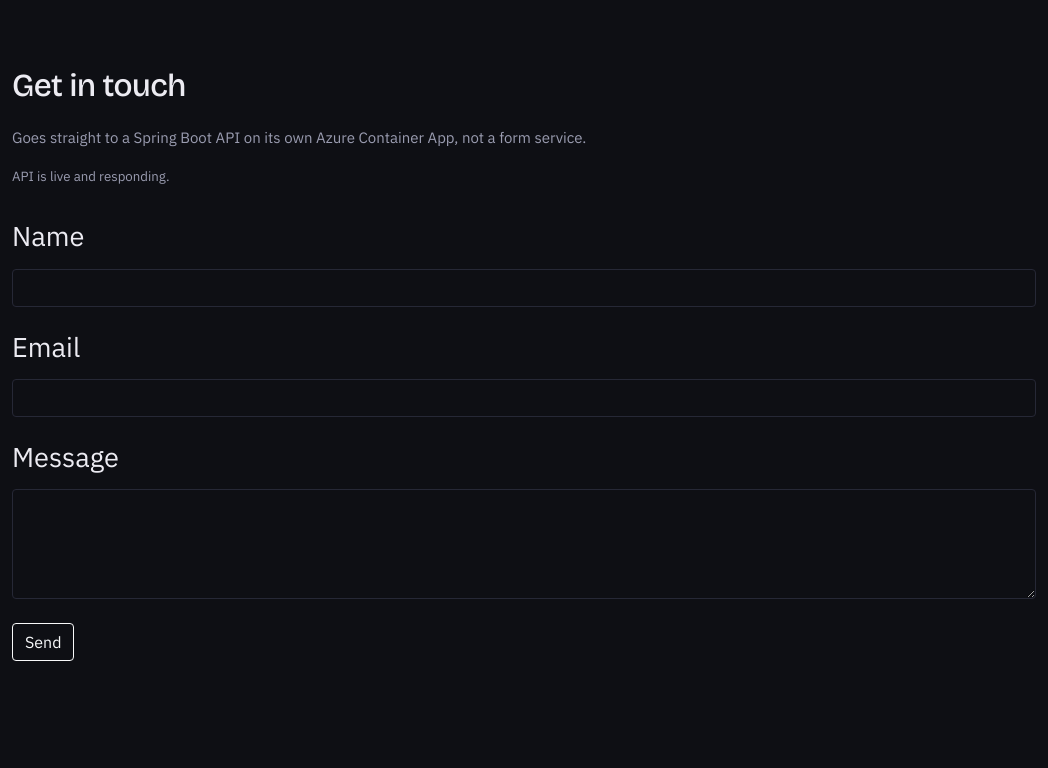
it: Contact › shows a rate-limit message on 429
The image size is (1048, 768).
In the field labelled "Name": (524, 288) [12,269,1036,307], type "Ada"
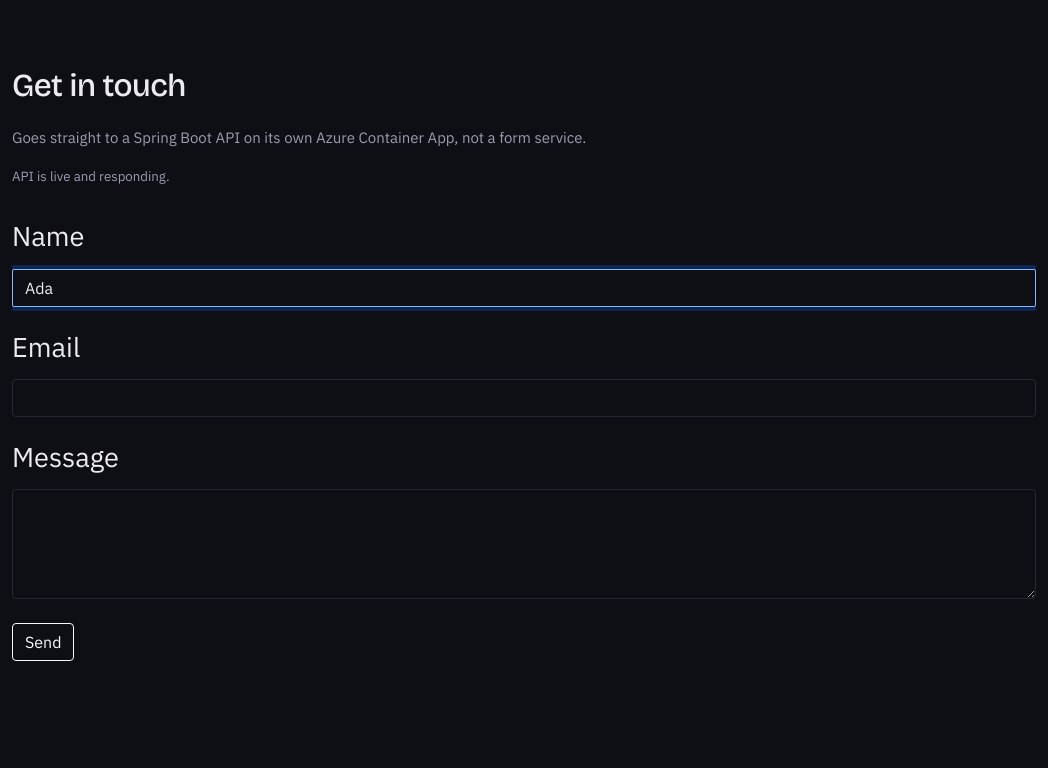
In the field labelled "Email": (524, 398) [12,379,1036,417], type "ada@example.com"
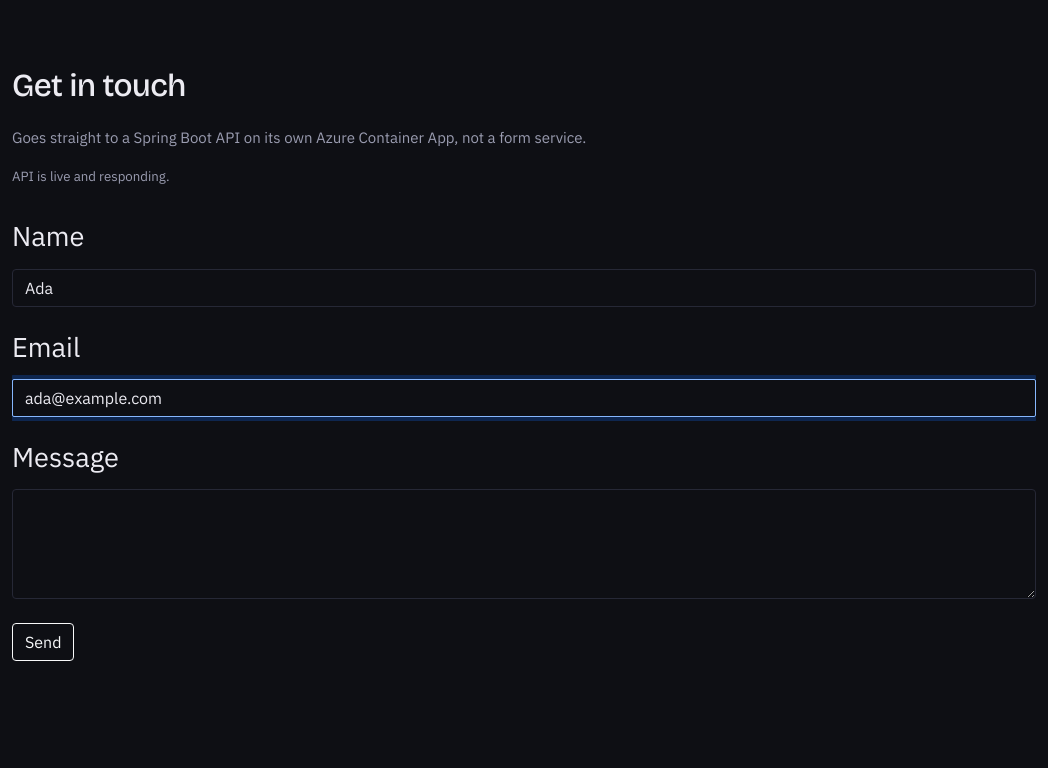
In the text box labelled "Message": (524, 544) [12,489,1036,599], type "Hello there"
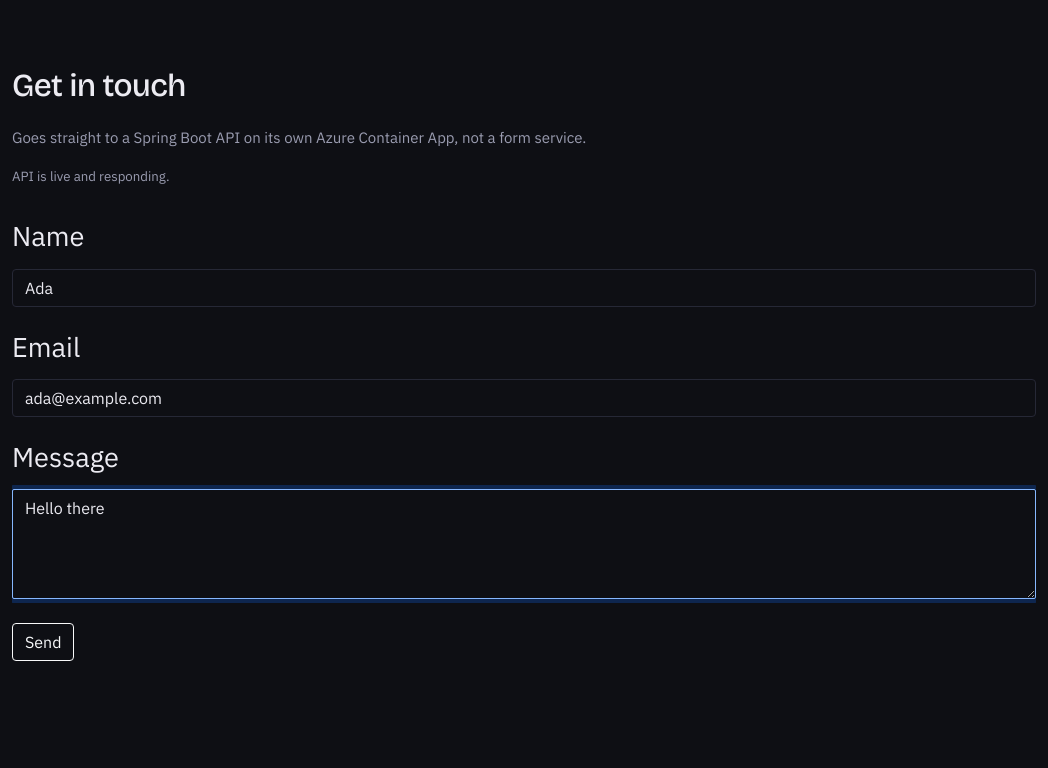
Click the button "Send": (43, 642) [12,623,74,661]
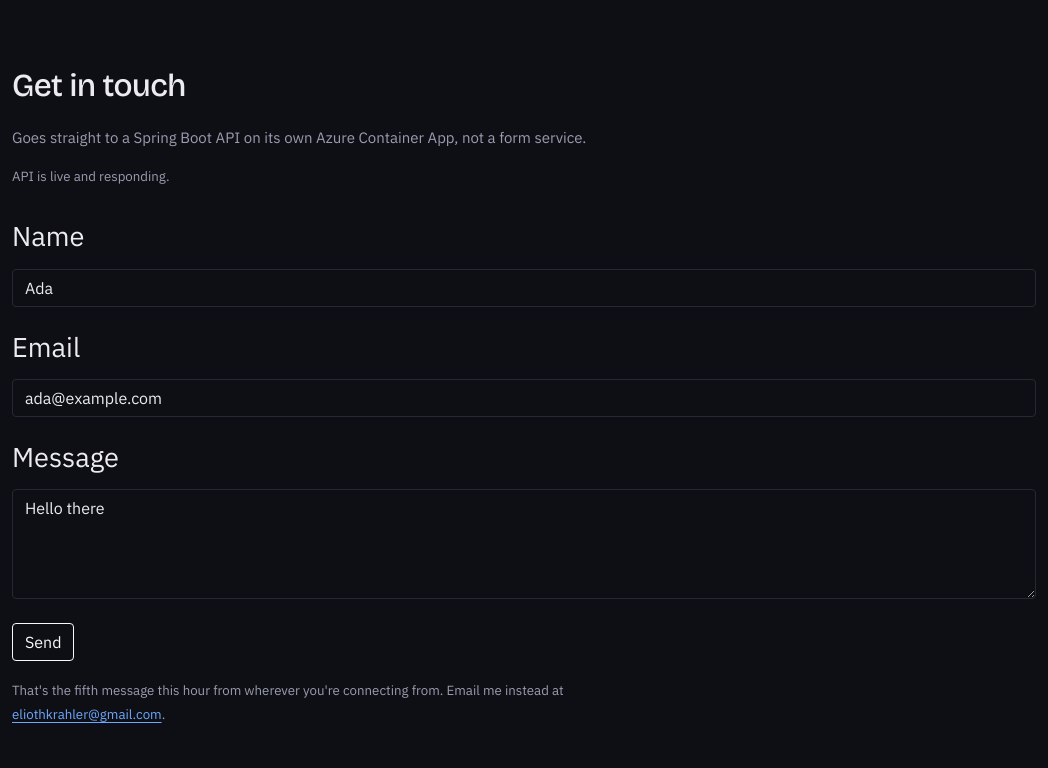
expect the text "fifth message this hour" is shown: met, box [12,681,564,699]
